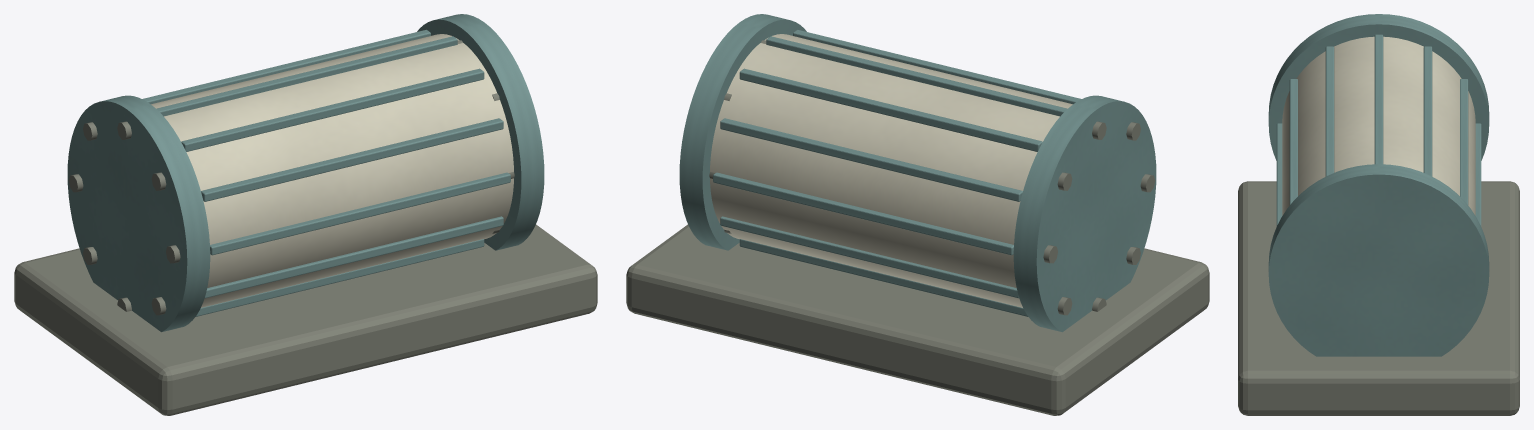
Rendered from Generator.glb.
3 views of the same model, side by side, from view 1: azimuth 30°, elevation 25°; view 2: azimuth 150°, elevation 25°; view 3: azimuth 270°, elevation 25° (orthographic). The views are drawn at different scales.
Visible parts, largest first — view 1: Generator; view 2: Generator; view 3: Generator.
Part boxes in pixels (<box>): Generator: <box>14,14,597,415</box>; Generator: <box>626,14,1209,415</box>; Generator: <box>1238,14,1519,415</box>.
Bounding box in the file's own units: 3.8 × 2.04 × 2.3.
Materials: 3 (2 with a texture image).
